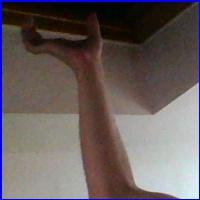space: (11, 9, 113, 66)
